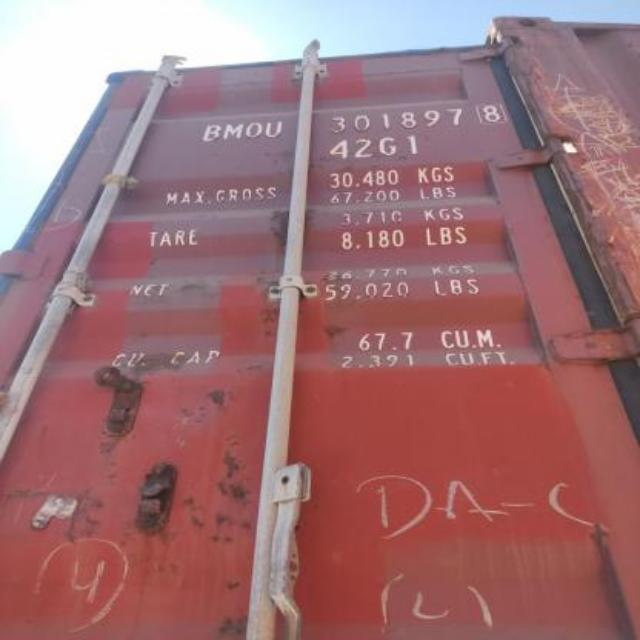0: (353, 114, 373, 134)
1: (378, 111, 392, 131)
3: (328, 115, 348, 136)
7: (444, 108, 466, 128)
8: (399, 112, 417, 132), (483, 105, 501, 121)
9: (422, 109, 440, 127)
B: (202, 123, 222, 143)
M: (228, 124, 242, 140)
O: (248, 122, 262, 138)
U: (264, 120, 282, 140)
